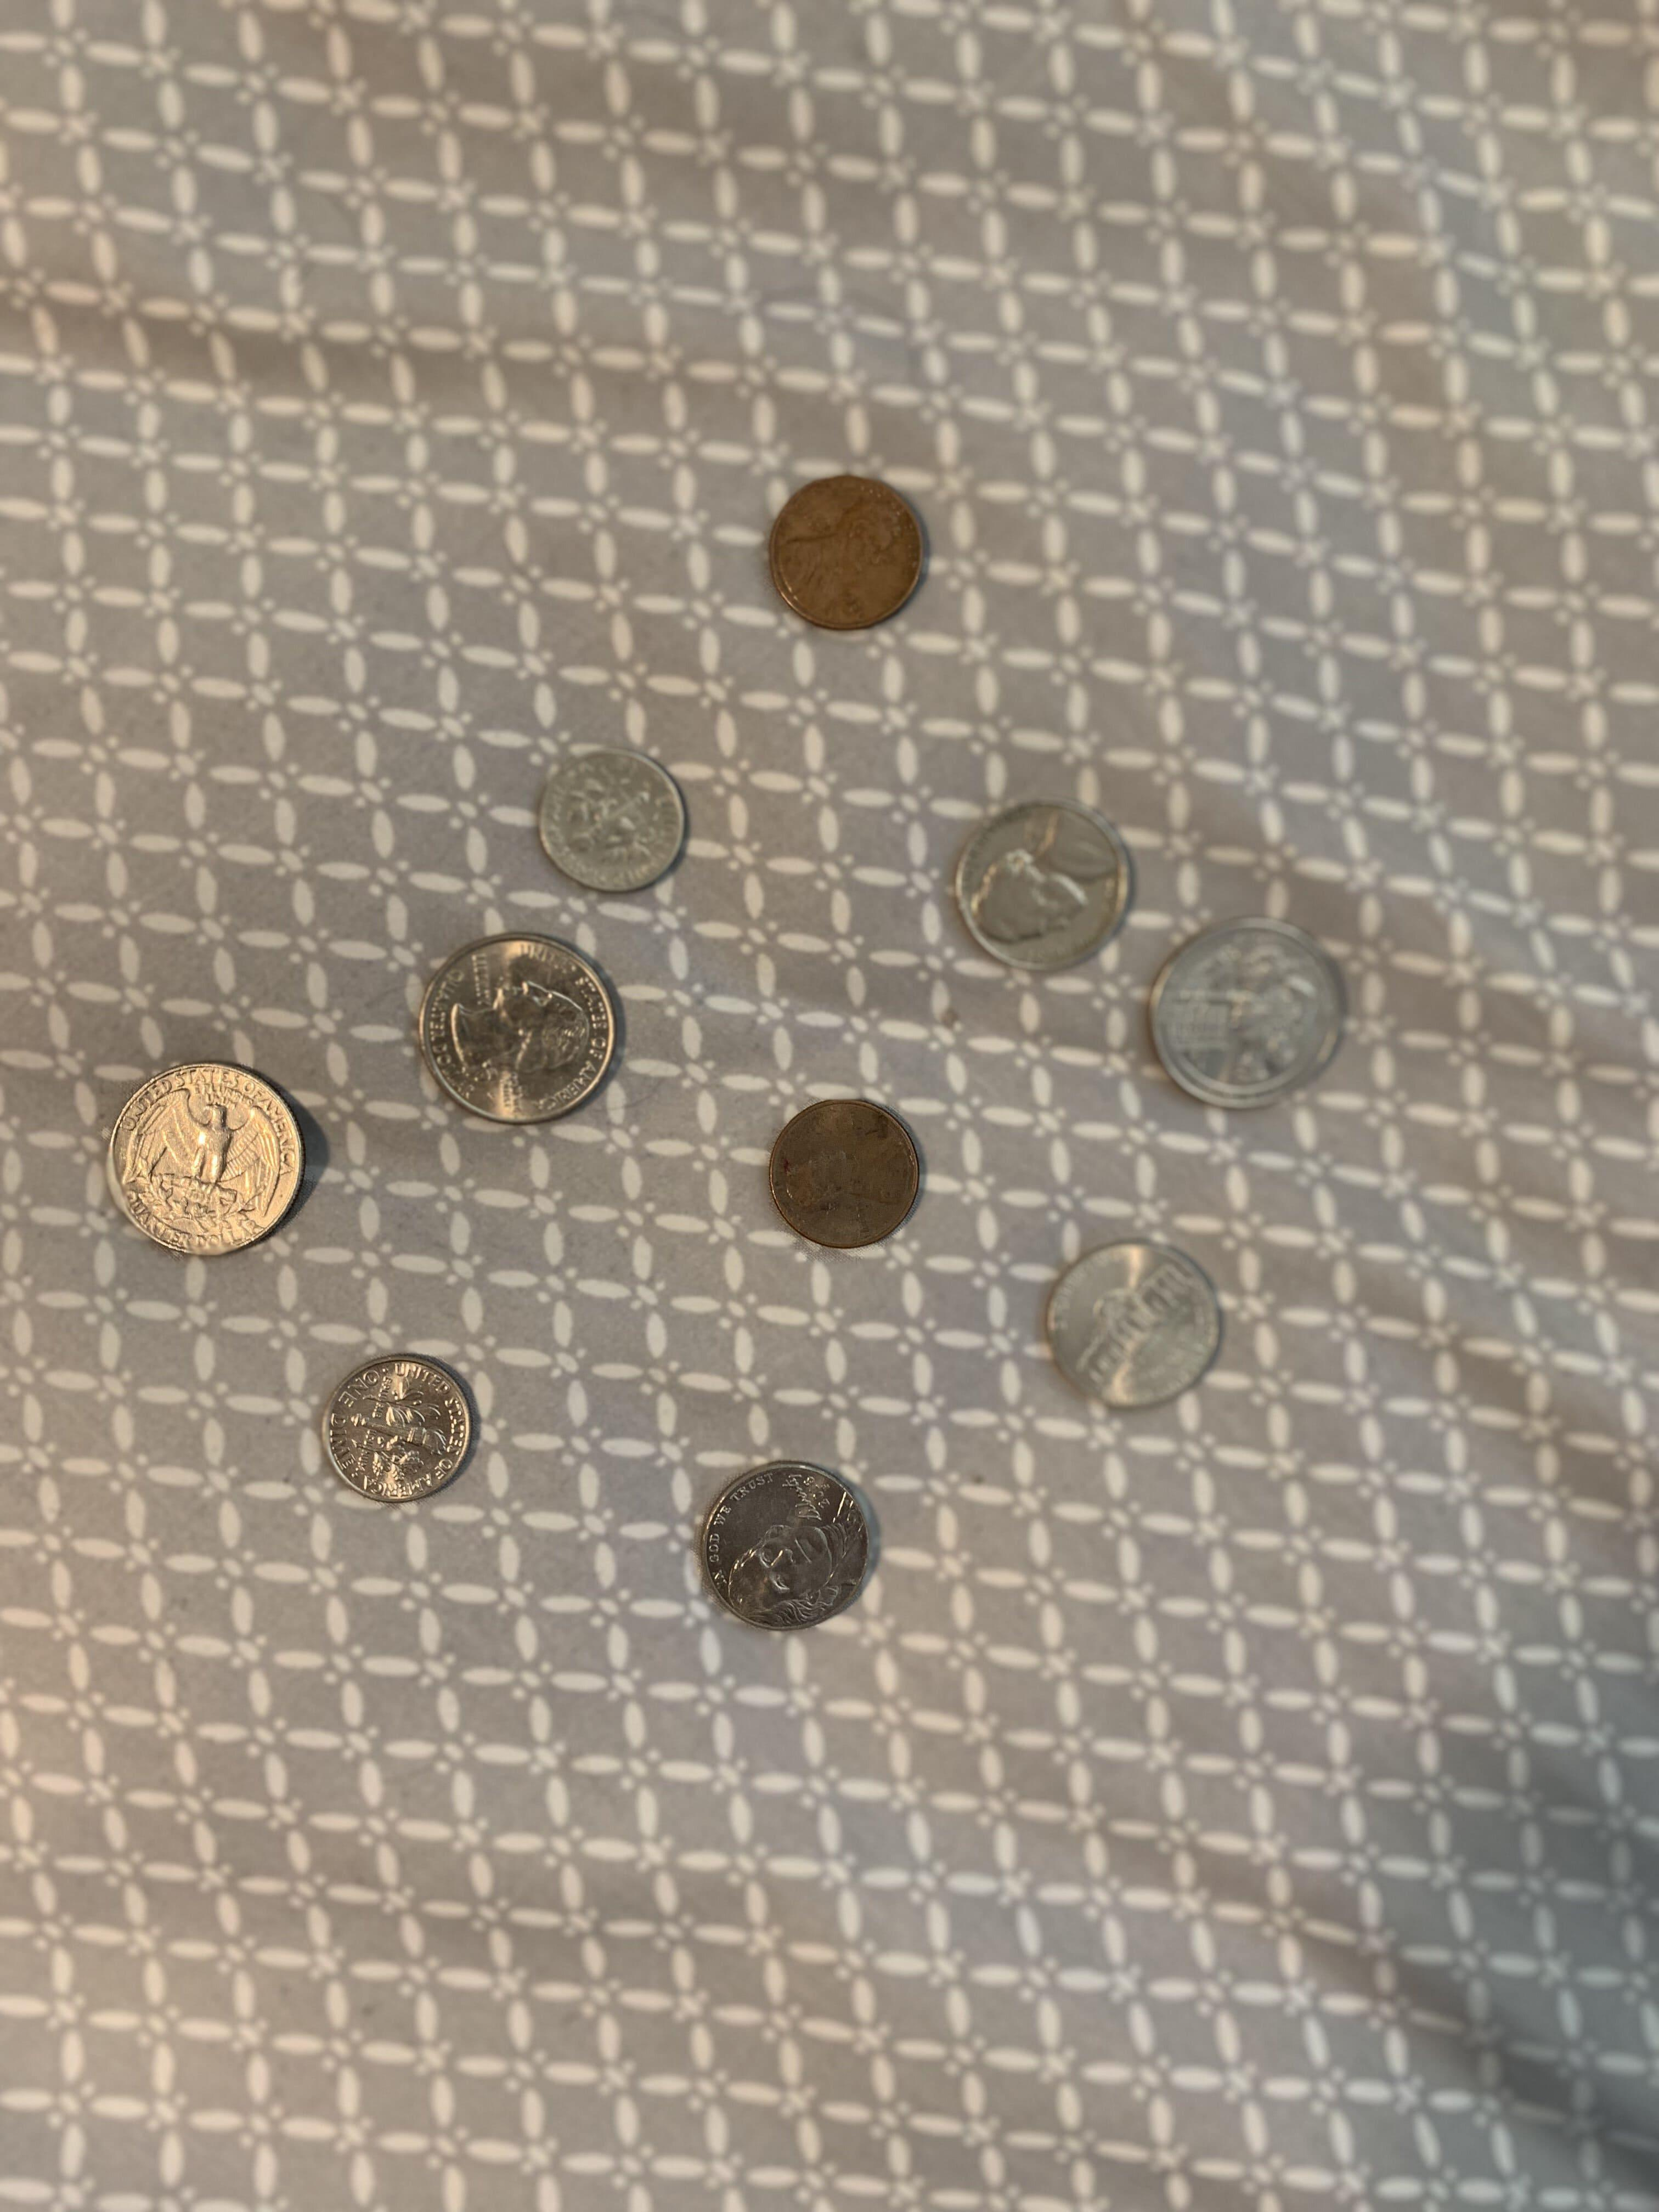Dime: (291, 1339, 509, 1519), (514, 730, 702, 916)
Nickel: (938, 775, 1157, 1005), (669, 1444, 903, 1656), (1018, 1214, 1246, 1421)
Penny: (751, 435, 951, 665), (756, 1085, 936, 1278)
Quarter: (87, 1035, 354, 1271), (389, 918, 648, 1155), (1136, 894, 1363, 1125)
